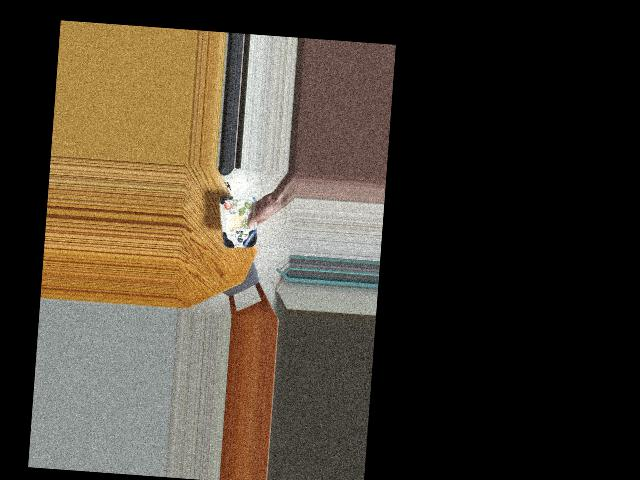cheese: (219, 199, 259, 247)
